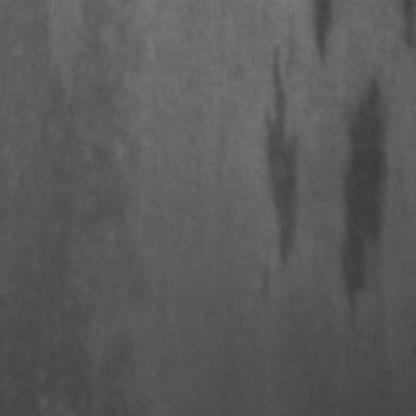inclusion: (333, 68, 393, 312), (250, 40, 300, 270), (303, 0, 339, 60)
